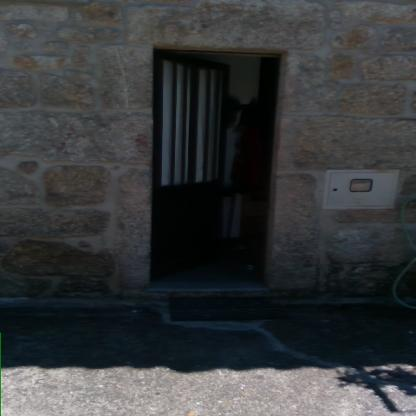semi: (142, 37, 293, 297)
